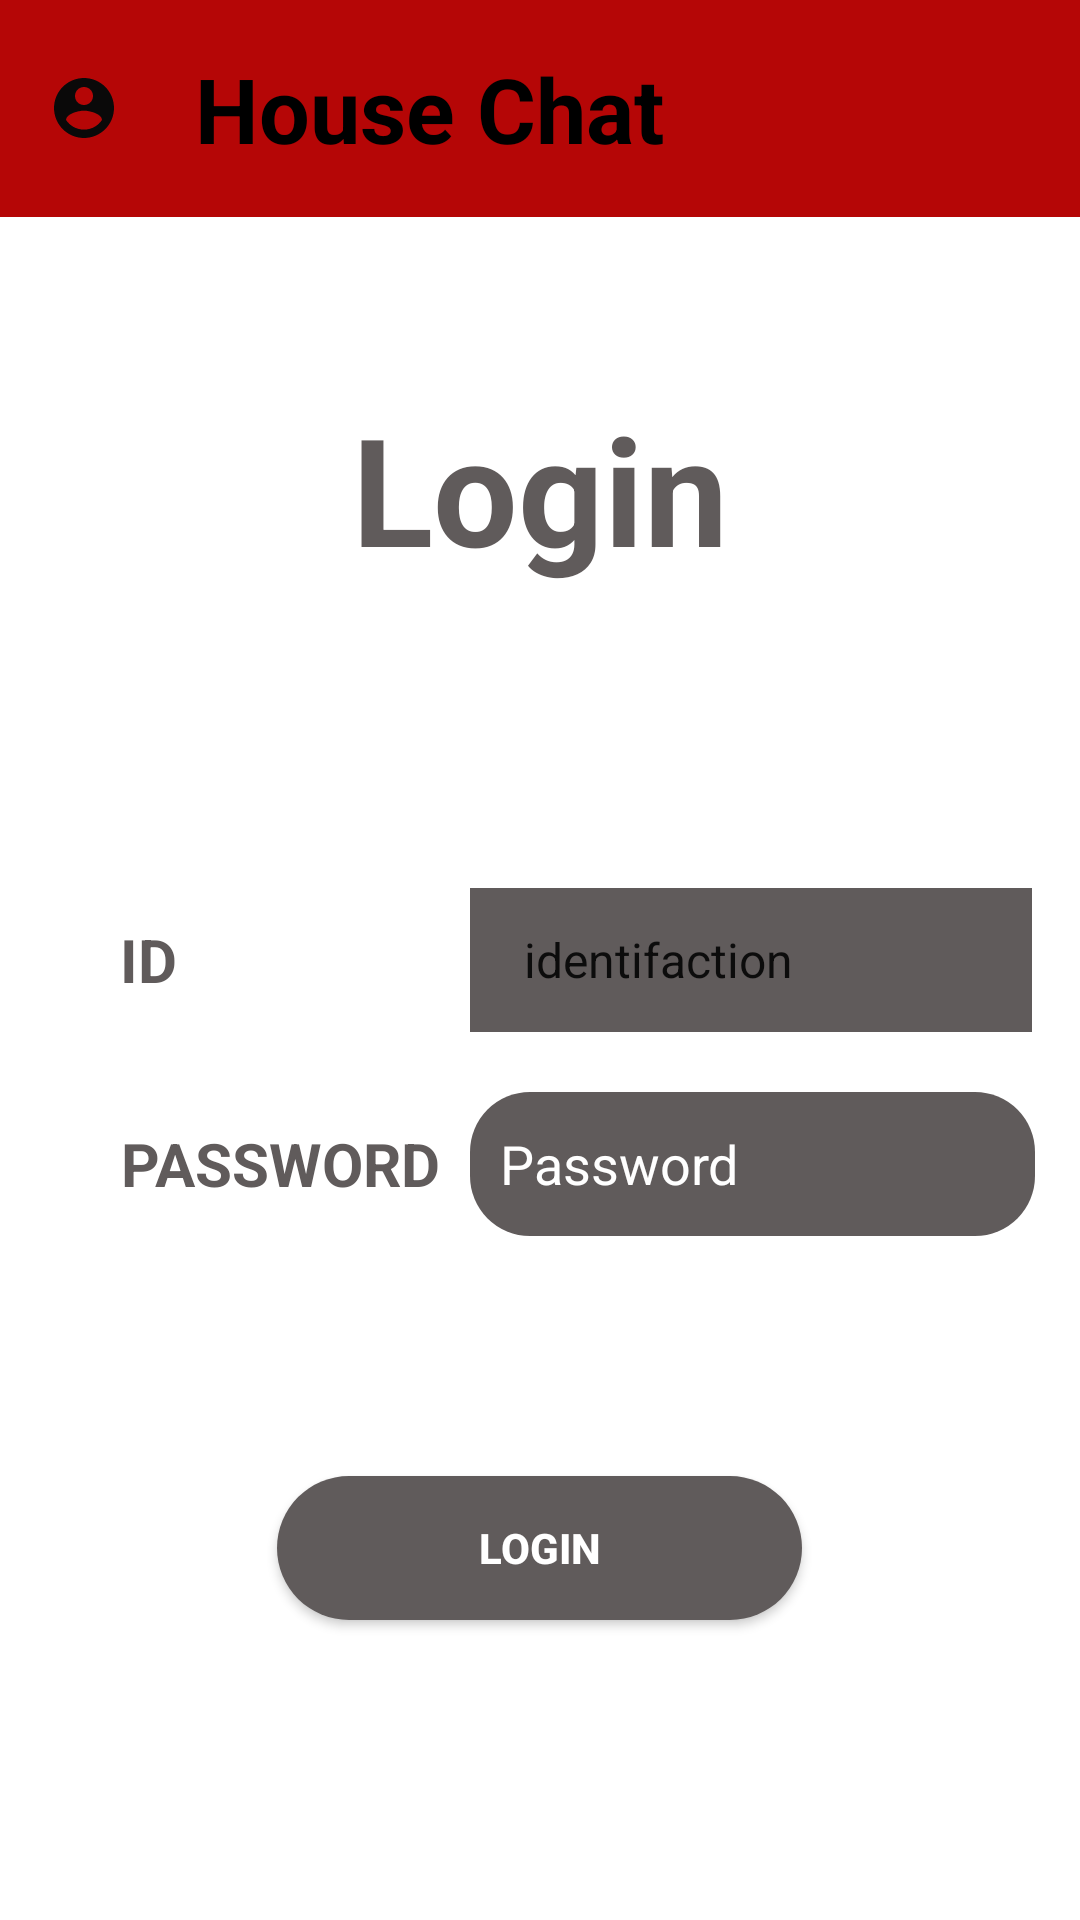

Icon bounding boxes for this 1080×1920 phone screenshot, format (x1, y1, x2, y2):
account circle: (54, 78, 114, 138)
